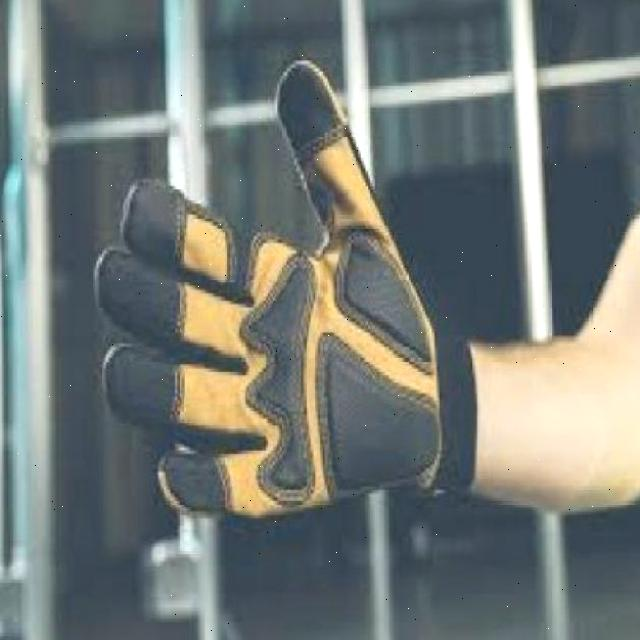Gloves: (95, 61, 441, 516)
